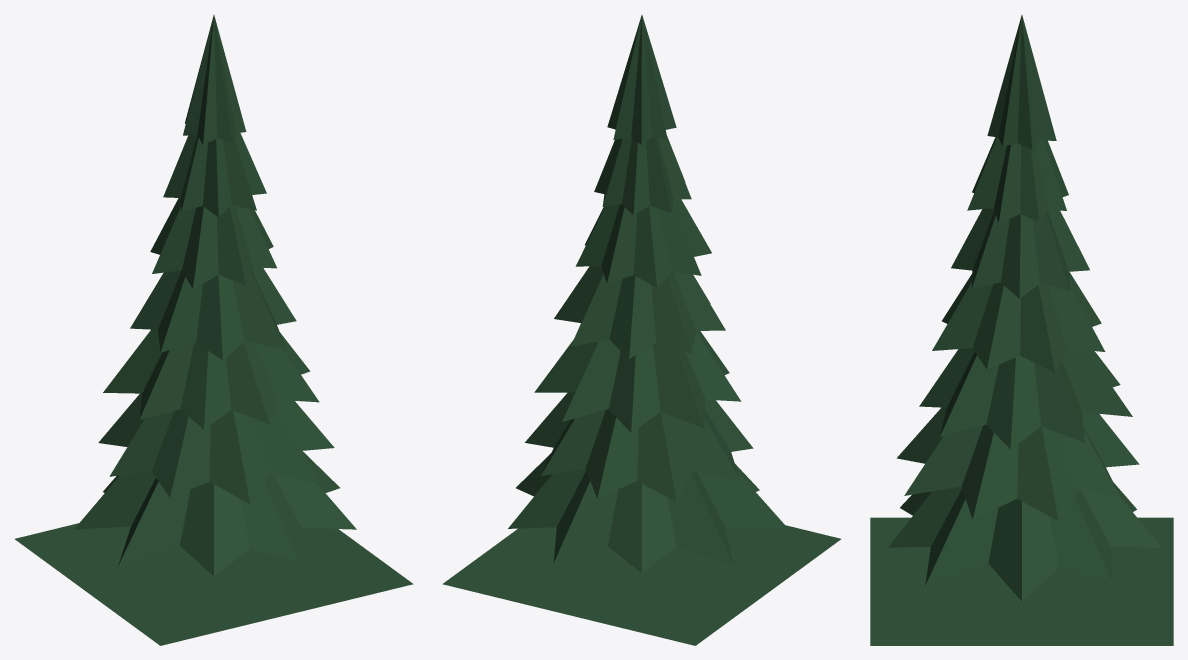
3 views of the same model, side by side, from view 1: azimuth 30°, elevation 25°; view 2: azimuth 150°, elevation 25°; view 3: azimuth 270°, elevation 25° (orthographic). The views are drawn at different scales.
Visible parts, largest first — view 1: Needles, Footprint; view 2: Needles, Footprint; view 3: Needles, Footprint.
Part boxes in pixels (bbox=[...]): Needles: bbox=[74, 15, 356, 576]; Footprint: bbox=[15, 523, 413, 645]; Needles: bbox=[508, 15, 788, 572]; Footprint: bbox=[442, 525, 840, 645]; Needles: bbox=[888, 15, 1161, 601]; Footprint: bbox=[870, 517, 1173, 645].
Bounding box in the file's own units: 3.36 × 6.99 × 3.36.
